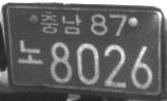0: (75, 41, 100, 86)
2: (102, 42, 127, 89)
6: (129, 45, 153, 90)
7: (109, 12, 127, 37)
8: (49, 40, 73, 84), (89, 12, 109, 36)
노: (16, 38, 44, 65)
충남_O: (39, 10, 82, 35)
